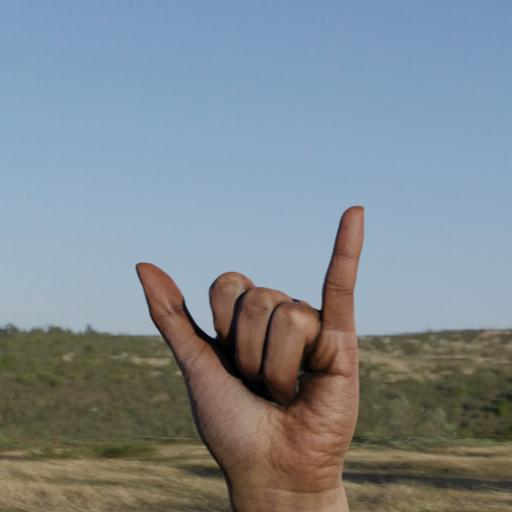Y: (122, 198, 384, 498)
